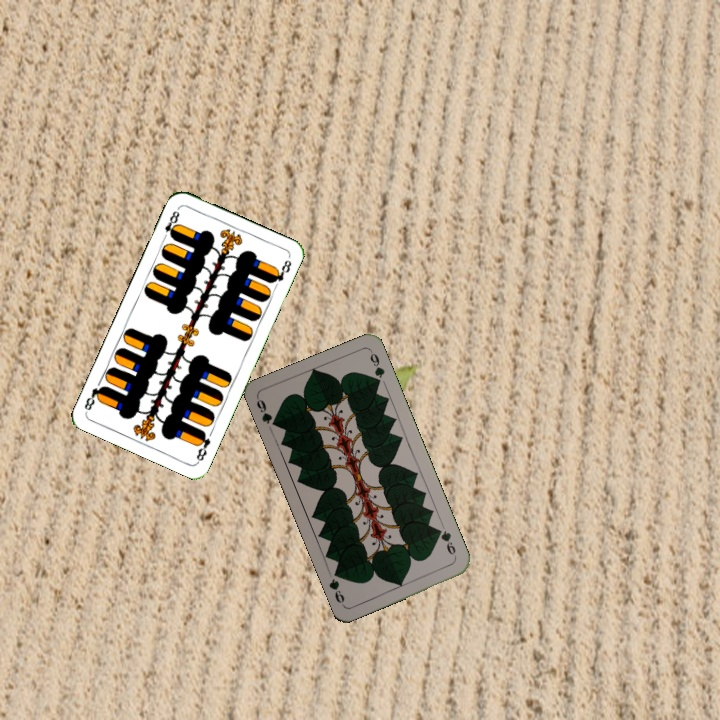E8: (159, 204, 182, 242), (192, 427, 213, 464)
G9: (252, 394, 281, 430), (433, 524, 459, 561)
